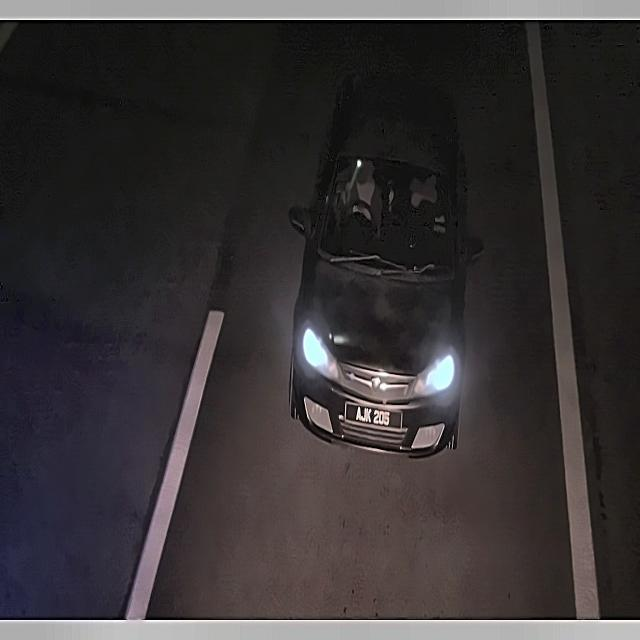car: (342, 393, 410, 439)
